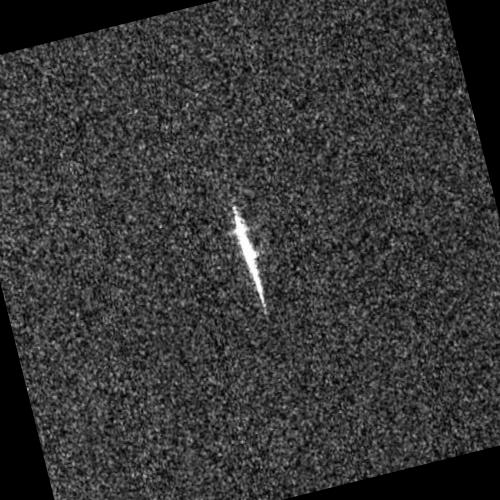ship: (232, 207, 266, 313)
